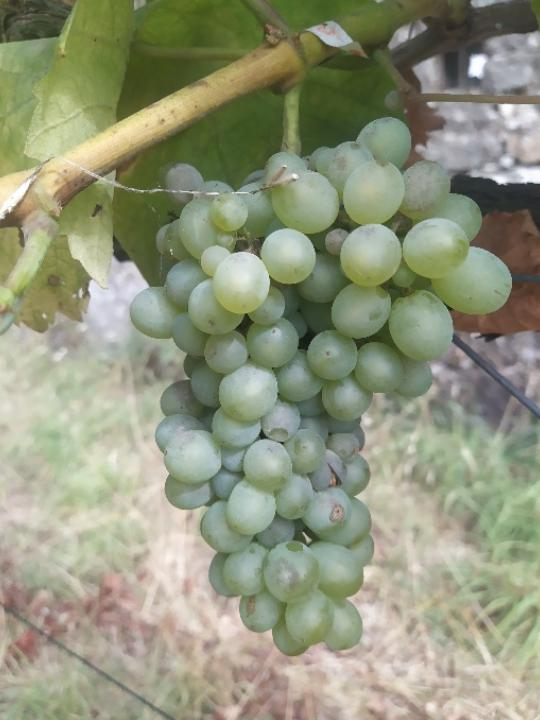grape: (133, 113, 513, 656)
